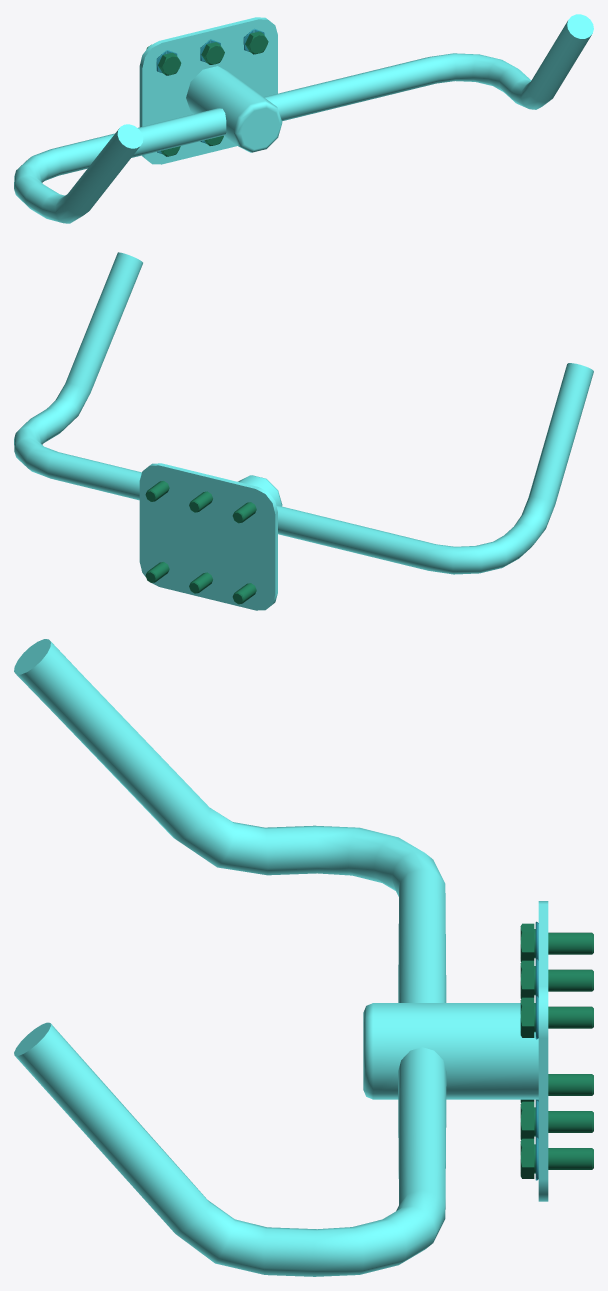
Rendered from korea03.obj.
The picture shows the model from 3 angles, top to bottom: view 1: azimuth 30°, elevation 25°; view 2: azimuth 150°, elevation 25°; view 3: azimuth 270°, elevation 25°; orthographic projection. The views are drawn at different scales.
Parts seen in each view (by area): view 1: 1, 5, 13, 9; view 2: 1; view 3: 1, 13, 5, 9, 25, 21, 17.
Boxes of the visible parts, x1,y1,x2,y2 form: 1: [14, 14, 593, 223]; 5: [146, 44, 181, 75]; 13: [245, 31, 268, 54]; 9: [201, 42, 224, 64]; 1: [14, 252, 593, 610]; 1: [14, 639, 548, 1276]; 13: [520, 997, 593, 1037]; 5: [520, 923, 593, 961]; 9: [520, 960, 593, 998]; 25: [520, 1138, 593, 1178]; 21: [520, 1101, 593, 1139]; 17: [520, 1074, 593, 1102].
Bounding box in the file's own units: 514 × 183 × 298.
